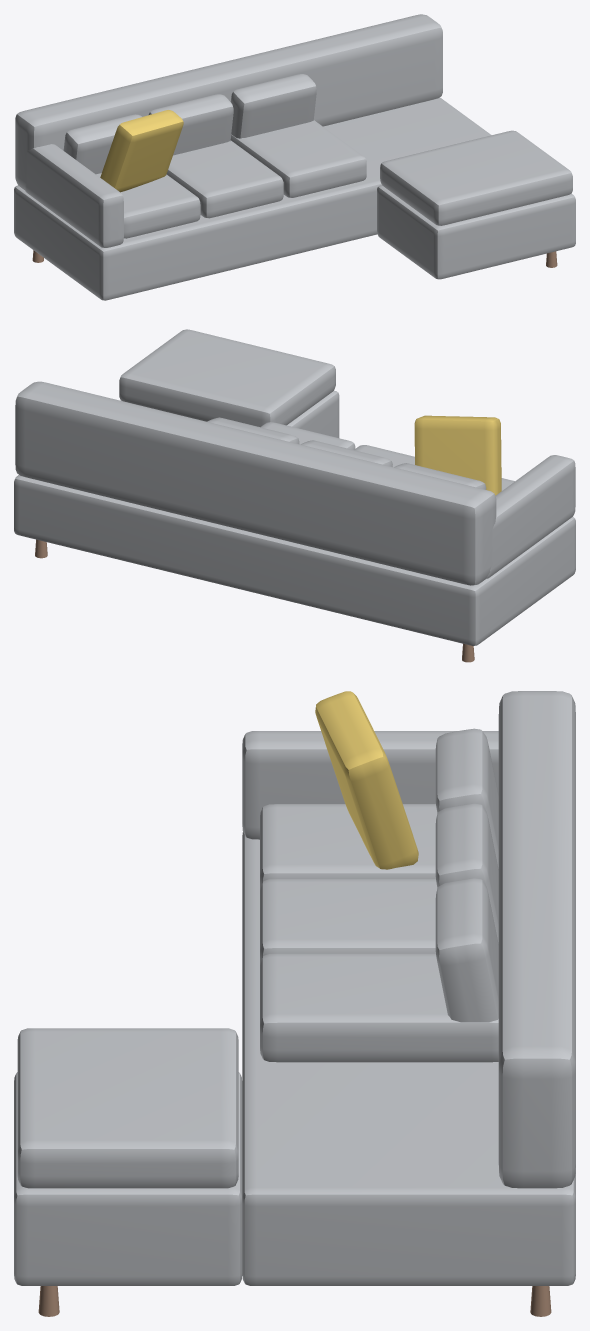
Rendered from sofa-chaise.glb.
The picture shows the model from 3 angles, top to bottom: view 1: azimuth 30°, elevation 25°; view 2: azimuth 150°, elevation 25°; view 3: azimuth 270°, elevation 25°; orthographic projection. The views are drawn at different scales.
Visible parts, largest first — view 1: Cube, Cube.002, Cube.010, Cube.001, Cube.003, Cube.008, Cube.006, Cube.011, Cube.009, Cube.004, Cube.007, Cube.005; view 2: Cube.002, Cube, Cube.010, Cube.003, Cube.011, Cube.001, Cube.008, Cube.005, Cube.009, Cube.007, Cube.006; view 3: Cube, Cube.002, Cube.010, Cube.001, Cube.008, Cube.006, Cube.003, Cube.004, Cube.011, Cube.009, Cube.007, Cube.005.
Part boxes in pixels (box(x1,y1,x2,y2)): Cube: box(14, 97, 491, 300); Cube.002: box(15, 14, 442, 189); Cube.010: box(380, 130, 572, 225); Cube.001: box(377, 185, 575, 279); Cube.003: box(24, 144, 123, 247); Cube.008: box(230, 120, 366, 197); Cube.006: box(166, 140, 283, 218); Cube.011: box(100, 110, 183, 192); Cube.009: box(230, 74, 316, 138); Cube.004: box(96, 173, 200, 238); Cube.007: box(148, 94, 233, 155); Cube.005: box(63, 114, 141, 174); Cube.002: box(15, 381, 496, 585); Cube: box(14, 475, 575, 645); Cube.010: box(119, 329, 335, 427); Cube.003: box(486, 455, 575, 578); Cube.011: box(414, 415, 501, 495); Cube.001: box(120, 390, 339, 437); Cube.008: box(261, 422, 355, 449); Cube.005: box(394, 463, 486, 489); Cube.009: box(207, 417, 299, 443); Cube.007: box(300, 440, 392, 466); Cube.006: box(354, 445, 414, 467); Cube: box(242, 832, 575, 1285); Cube.002: box(498, 691, 575, 1188); Cube.010: box(17, 1028, 238, 1188); Cube.001: box(14, 1072, 242, 1285); Cube.008: box(260, 953, 498, 1062); Cube.006: box(260, 878, 437, 964); Cube.003: box(242, 731, 498, 839); Cube.004: box(260, 804, 437, 889); Cube.011: box(315, 691, 418, 869); Cube.009: box(435, 878, 498, 1022); Cube.007: box(435, 803, 498, 943); Cube.005: box(435, 728, 498, 868).
Size of the model in its own units: 2.5 by 0.9673 by 1.6.
